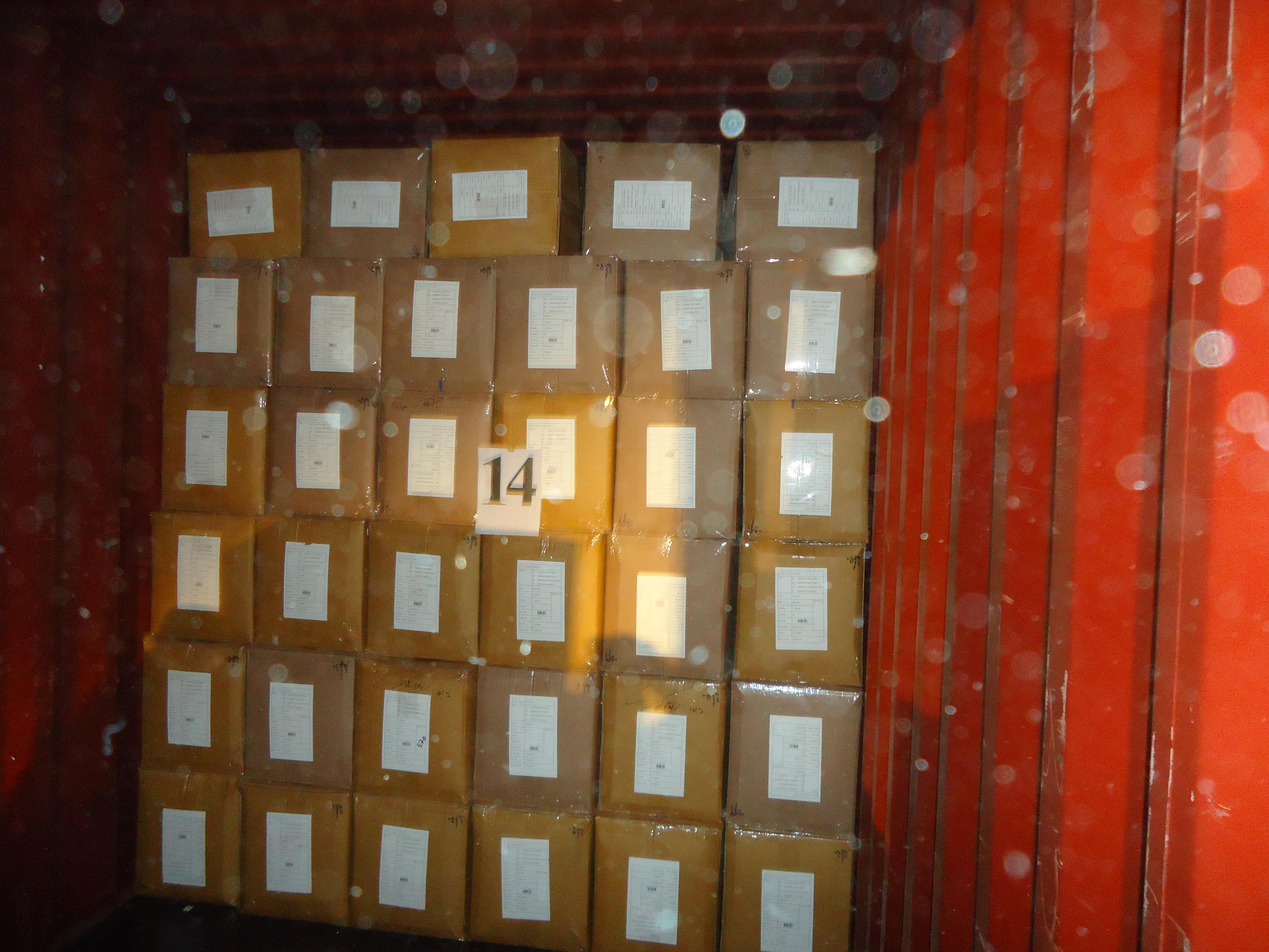carton: (725, 681, 862, 834), (602, 532, 736, 680), (597, 673, 728, 824), (734, 538, 866, 687), (472, 665, 602, 814), (742, 397, 872, 542), (612, 395, 742, 538), (745, 256, 874, 400), (428, 134, 579, 257), (494, 254, 625, 394), (469, 804, 593, 951), (489, 392, 617, 532), (353, 657, 476, 802), (592, 815, 722, 951), (479, 531, 606, 670), (622, 259, 748, 398), (350, 792, 469, 939), (720, 824, 854, 952), (734, 140, 874, 261), (583, 141, 721, 260), (374, 390, 493, 527), (365, 520, 480, 661), (241, 781, 351, 925), (244, 647, 355, 789), (254, 514, 365, 653), (382, 257, 496, 392), (272, 258, 384, 389), (267, 386, 378, 518), (141, 636, 244, 777), (135, 769, 241, 906), (302, 147, 429, 259), (150, 510, 255, 643), (167, 257, 275, 386), (161, 384, 268, 514), (188, 148, 303, 259)
